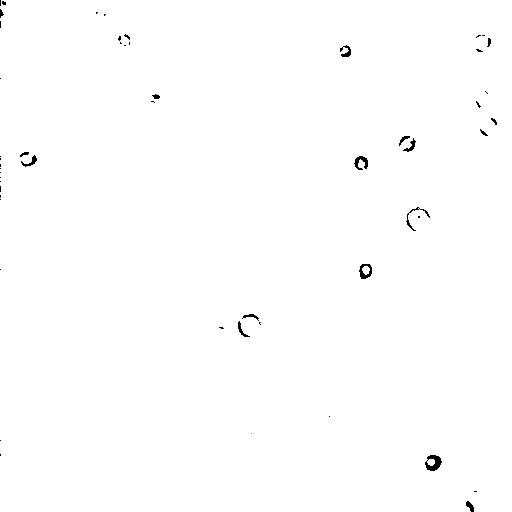micro-algae: (239, 429, 277, 455), (463, 485, 494, 511), (407, 205, 434, 232), (45, 21, 74, 44), (476, 113, 500, 139), (239, 311, 261, 337), (15, 493, 44, 511), (353, 259, 375, 282), (334, 40, 355, 63), (17, 149, 41, 169), (0, 0, 21, 21), (473, 32, 493, 53), (474, 87, 491, 111), (397, 133, 417, 153), (423, 453, 442, 472), (117, 30, 135, 49), (352, 154, 370, 171), (93, 5, 108, 21)
